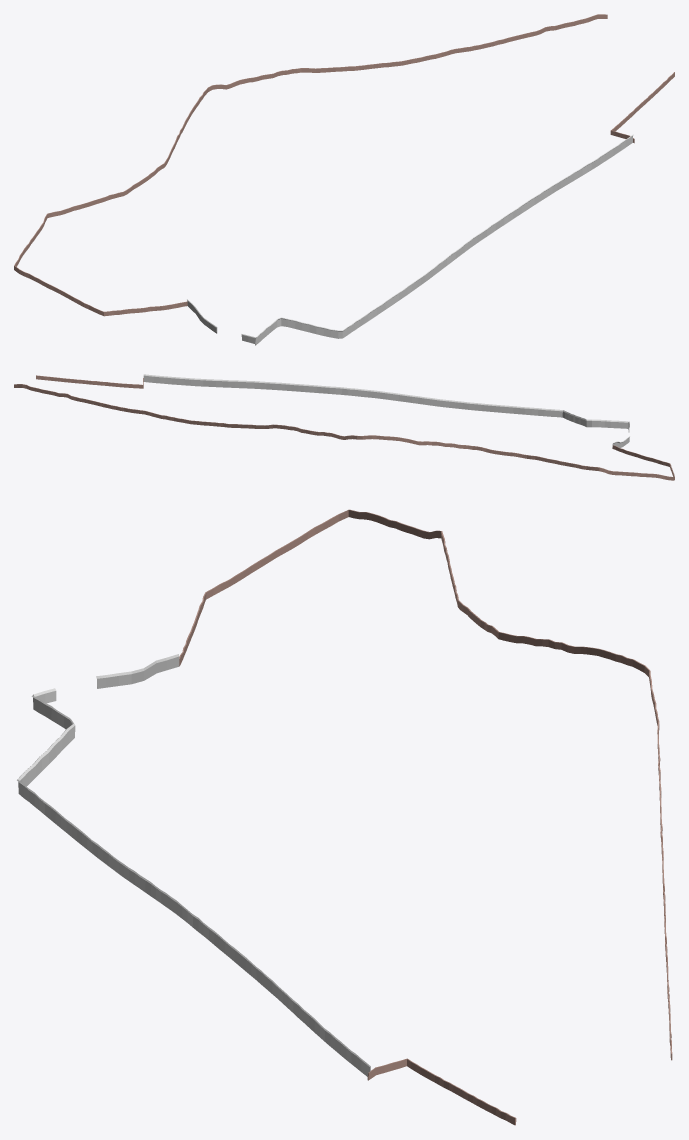
Rendered from s_quarry_fencing.dae.
3 renders of one model, top to bottom at view 1: azimuth 30°, elevation 25°; view 2: azimuth 150°, elevation 25°; view 3: azimuth 270°, elevation 25°, orthographic. The views are drawn at different scales.
Visible parts, largest first — view 1: Colmesh-1; view 2: Colmesh-1; view 3: Colmesh-1.
Part boxes in pixels (<box>): Colmesh-1: <box>14,14,674,345</box>; Colmesh-1: <box>14,374,674,480</box>; Colmesh-1: <box>17,509,672,1125</box>.
Size of the model in its own units: 327 by 155 by 44.66.
